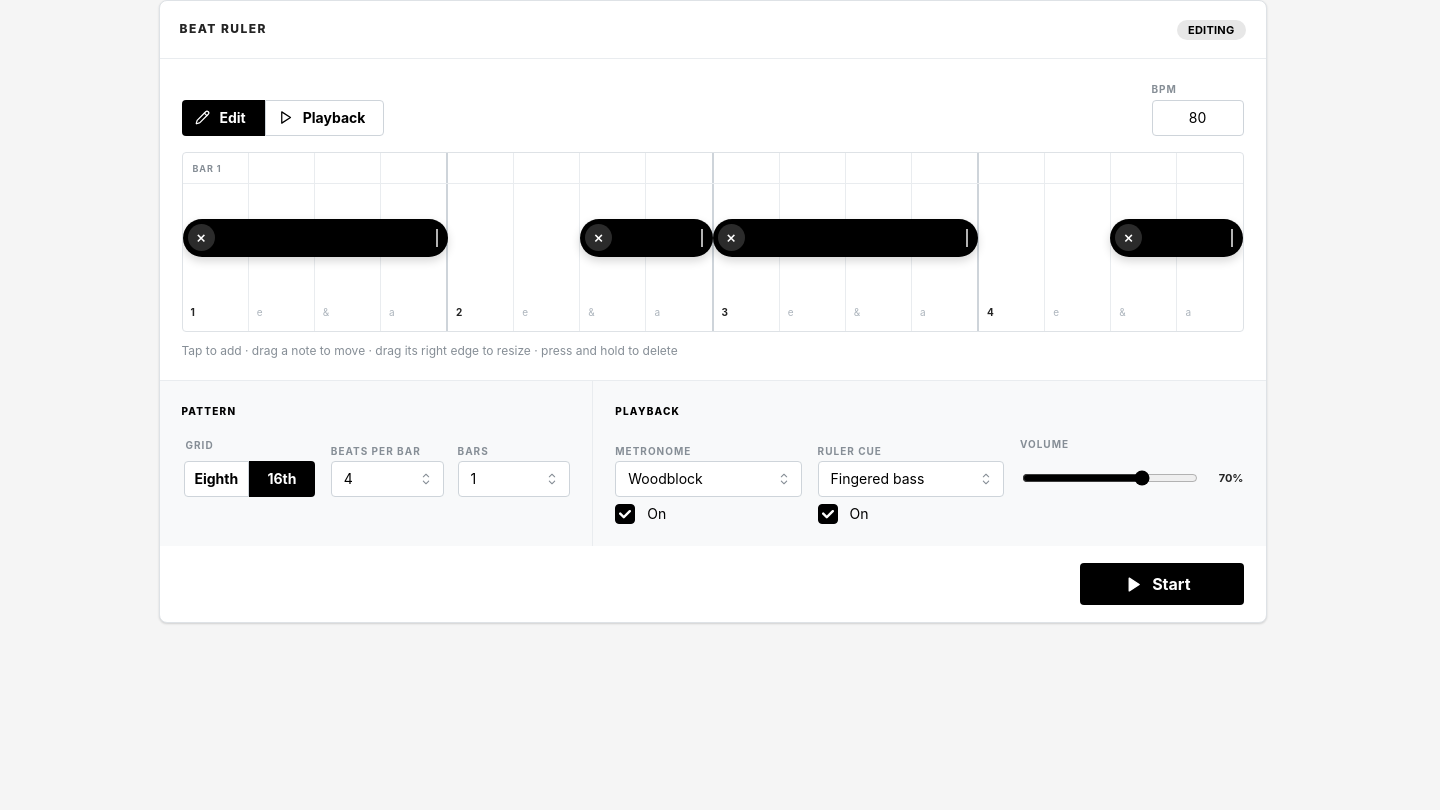
Test: Beat Ruler UI › renders four bars as two joined rows and trims notes when the pattern is shortened
The width and height of the screenshot is (1440, 810).
Select "3" in the dropdown labelled "BARS" at [514, 479], box [458, 461, 570, 497]
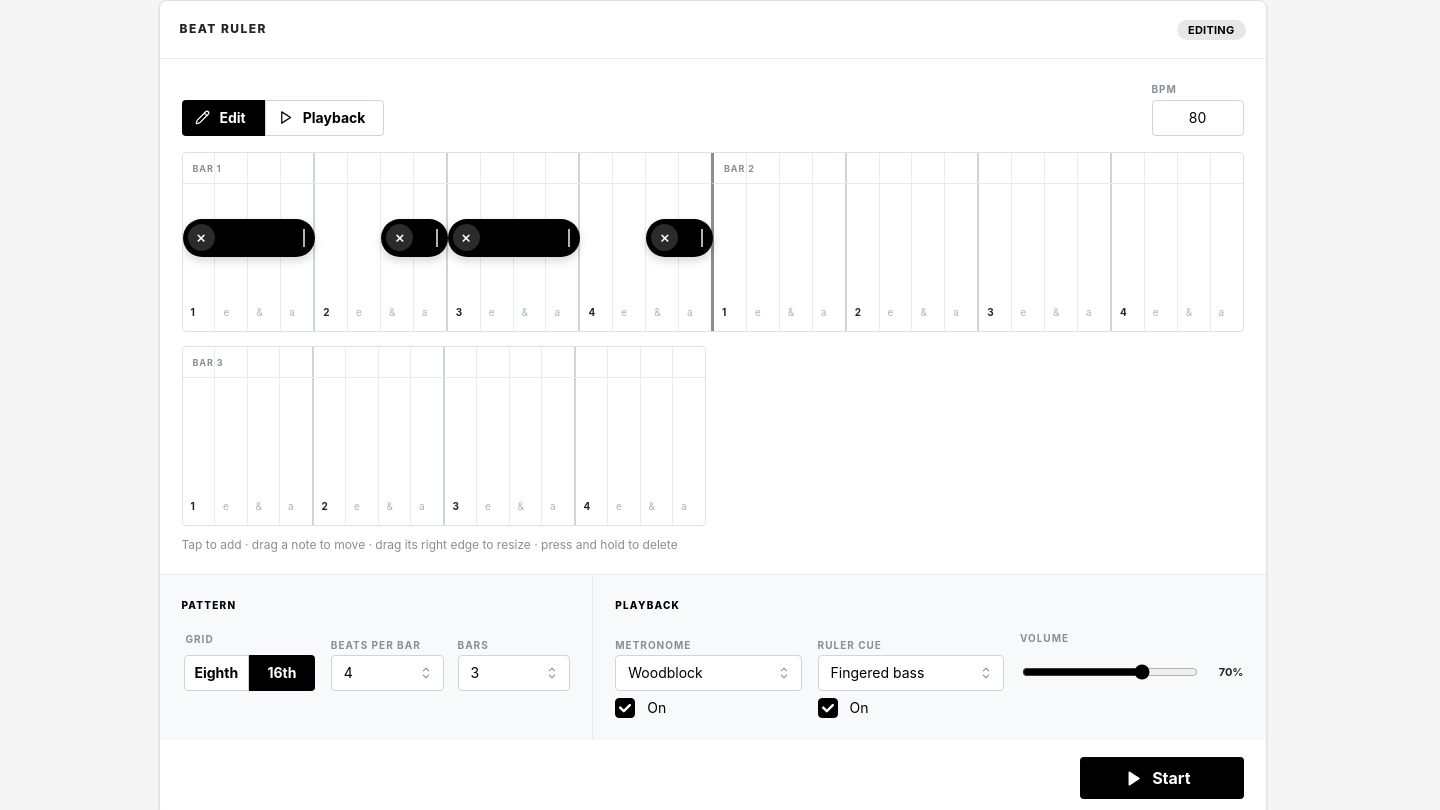
Now the text "BAR 3" is shown, box [182, 347, 704, 378]
Select "4" in the dropdown labelled "BARS" at [514, 673], box [458, 655, 570, 691]
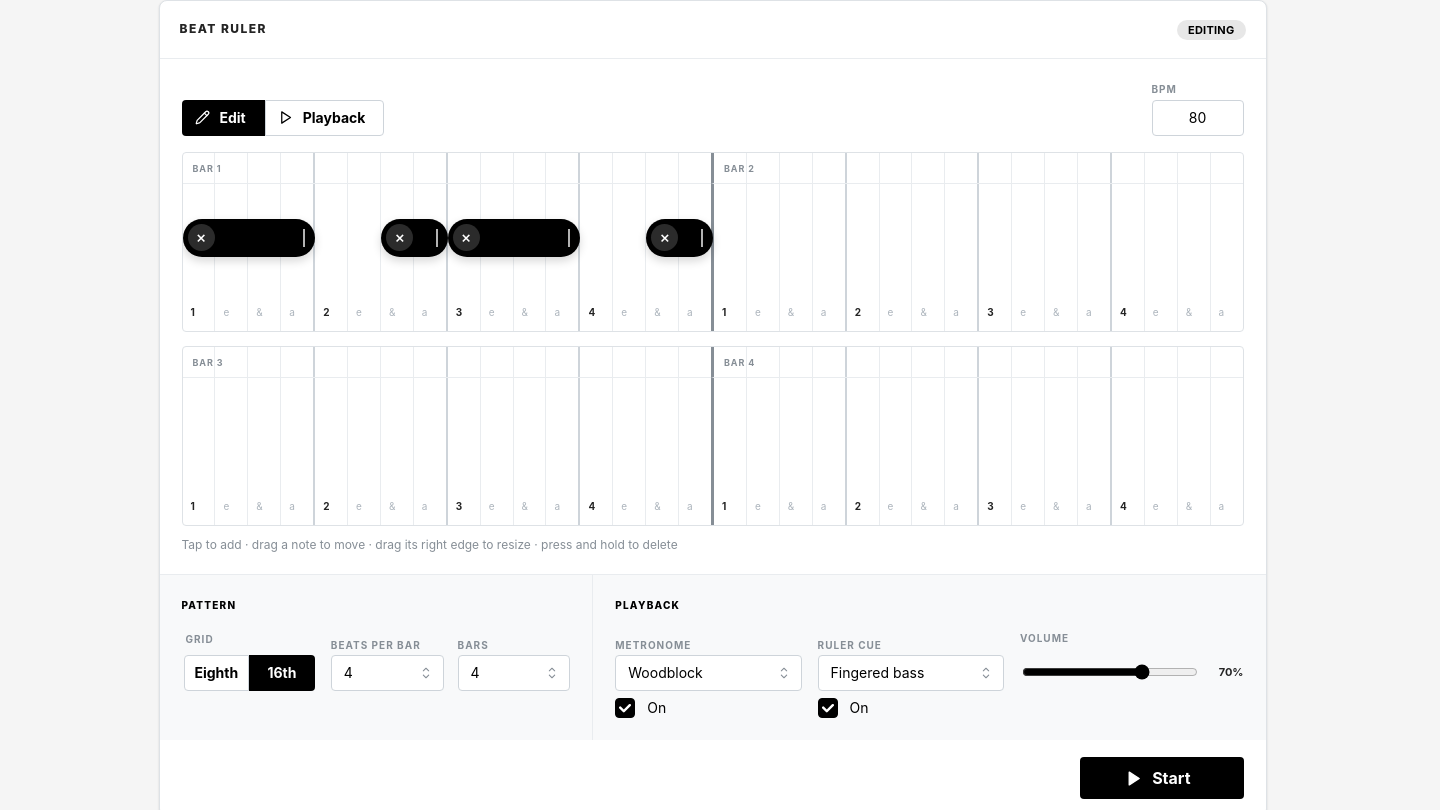
Now the text "BAR 2" is shown, box [711, 153, 1242, 184]
Now the text "BAR 3" is shown, box [182, 347, 711, 378]
Now the text "BAR 4" is shown, box [711, 347, 1242, 378]
Click the button named "Add note at bar 4, beat 1" at [728, 436], box [711, 347, 746, 525]
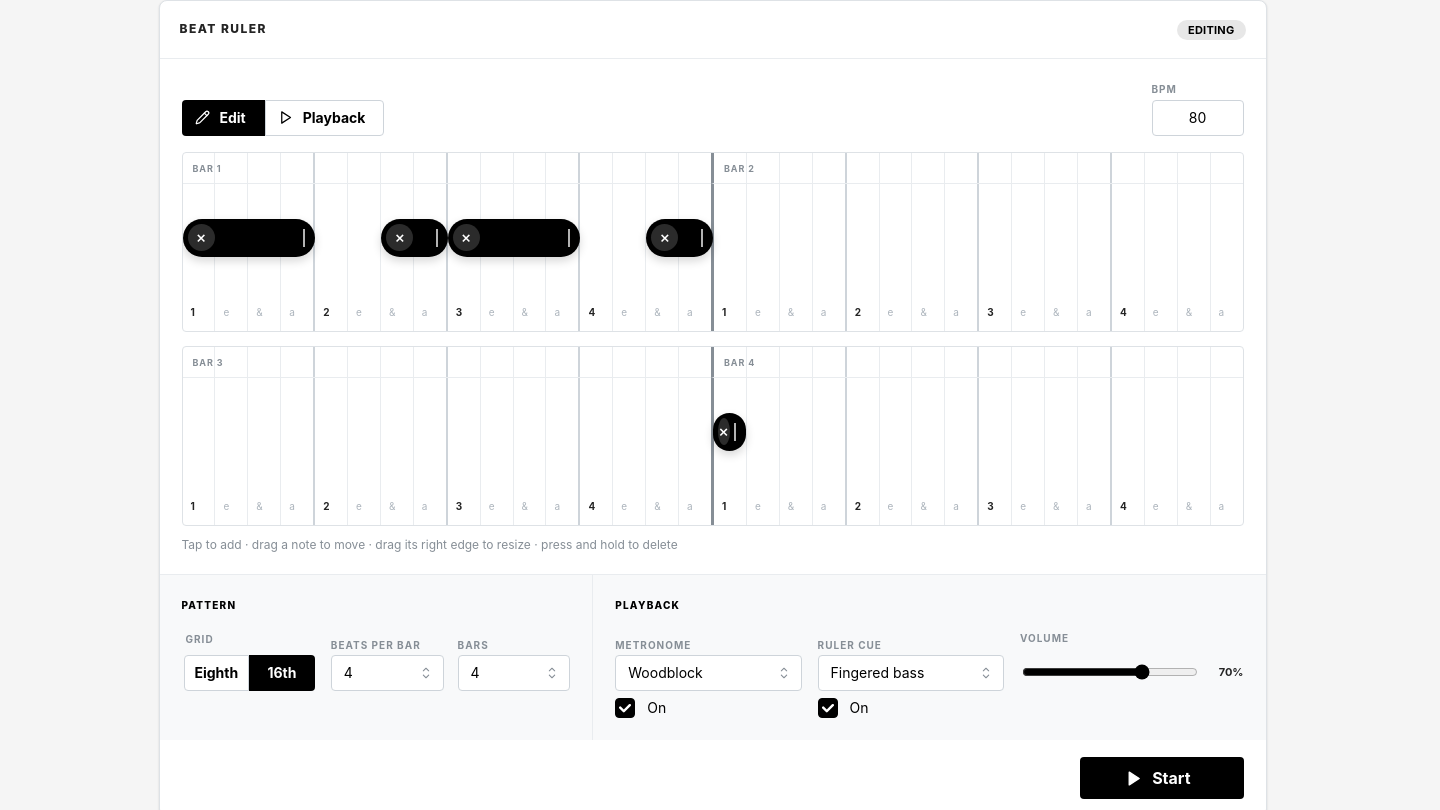
Now the button with test id "ruler-note-note-15" is shown, box [712, 413, 746, 451]
Select "1" in the dropdown labelled "BARS" at [514, 673], box [458, 655, 570, 691]
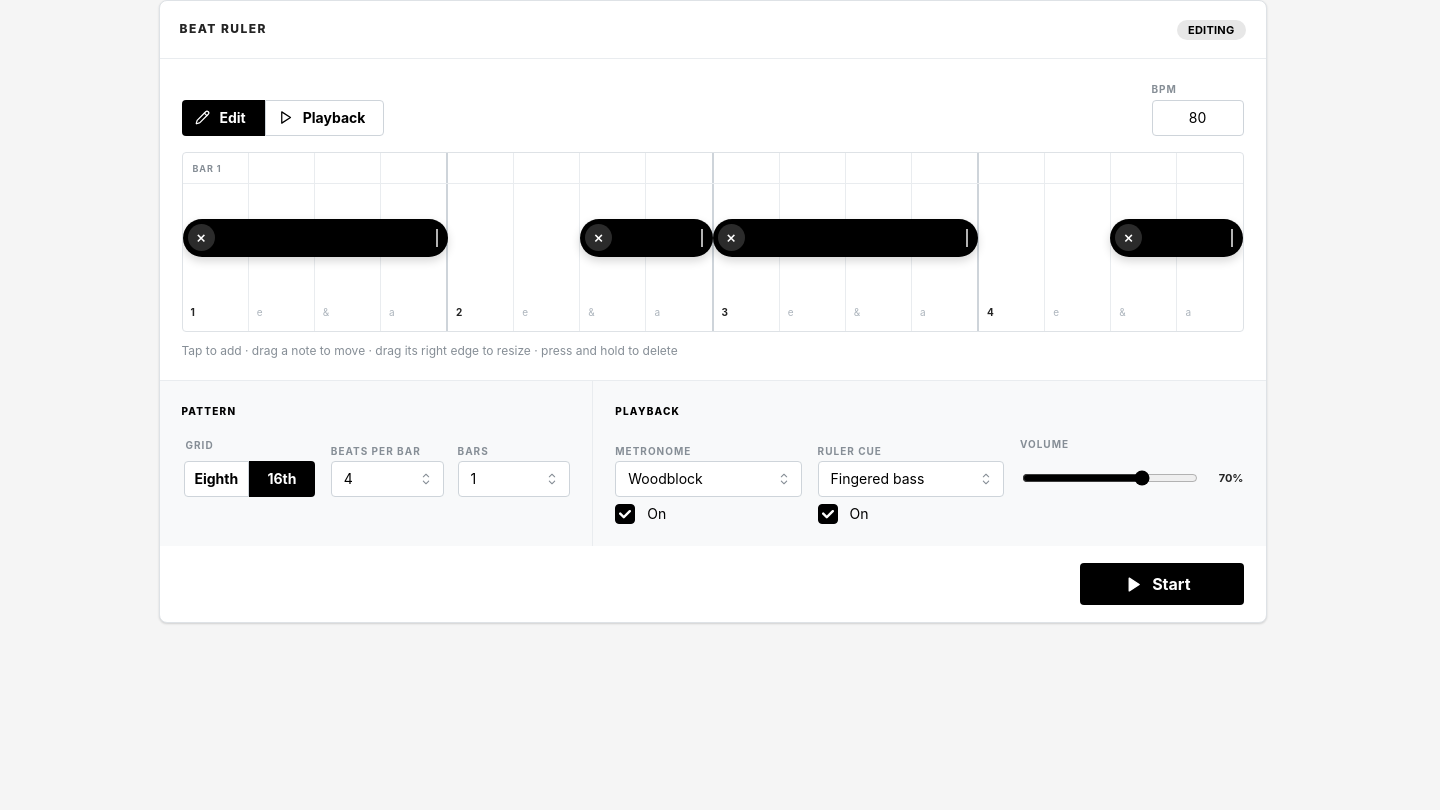
Now the button with test id "ruler-note-note-15" is gone
Now the element named "1 bar, 4 beats per bar, sixteenth-note grid" is shown, box [182, 152, 1244, 332]
